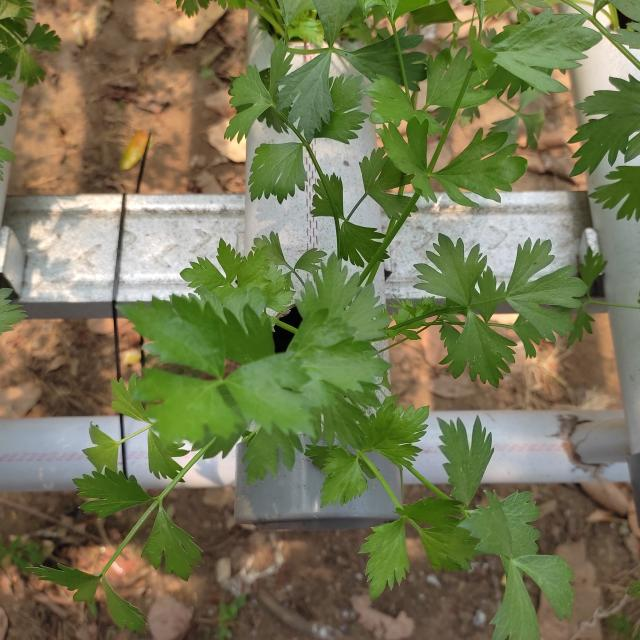Wet Waste: (137, 66, 560, 493)
